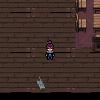Hide: (90, 34, 100, 52)
Obstacle: (71, 13, 91, 34)
Victim: (44, 39, 56, 61)
Win: (36, 76, 45, 90)
